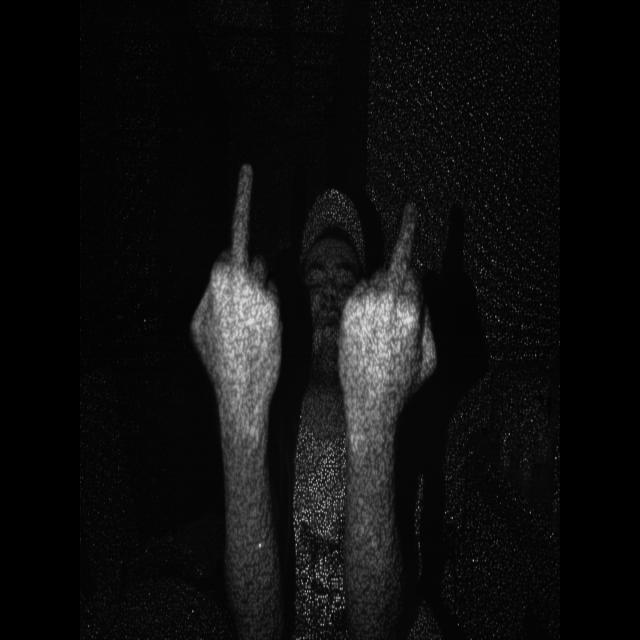FUCK YOU: (178, 138, 302, 414), (317, 185, 456, 419)
